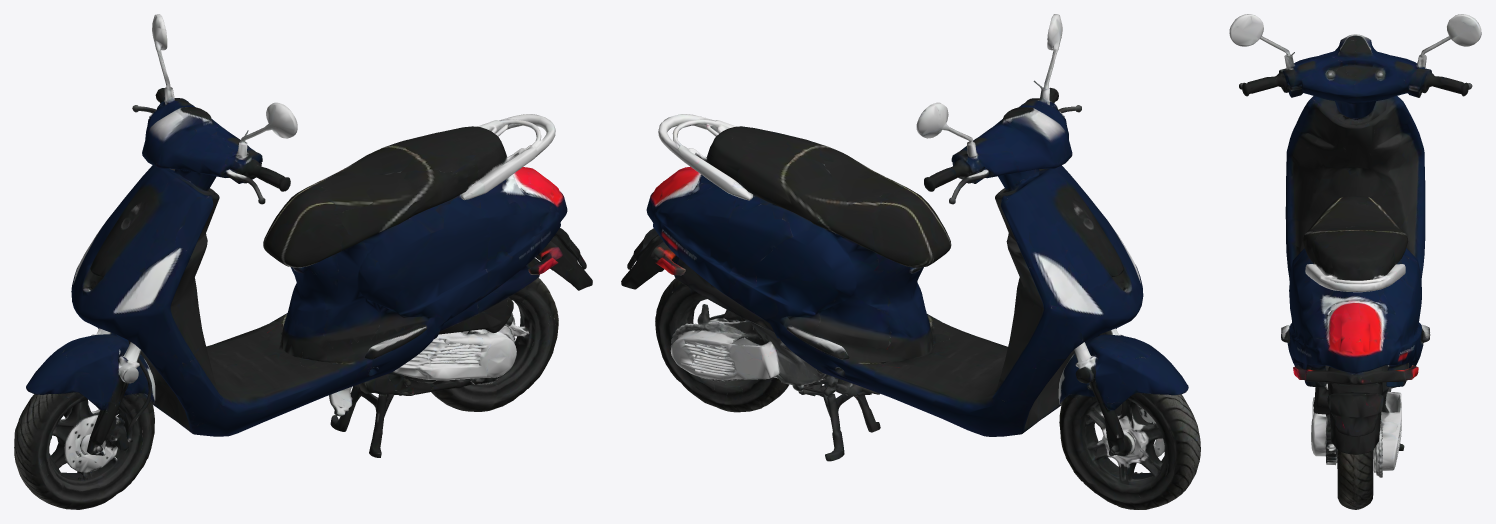
The model's file is bermuda-scooter.glb.
3 views of the same model, side by side, from view 1: azimuth 30°, elevation 25°; view 2: azimuth 150°, elevation 25°; view 3: azimuth 270°, elevation 25° (orthographic). The views are drawn at different scales.
Size of the model in its own units: 1.9 by 1.32 by 0.8049.
1 material, 1 textured.
